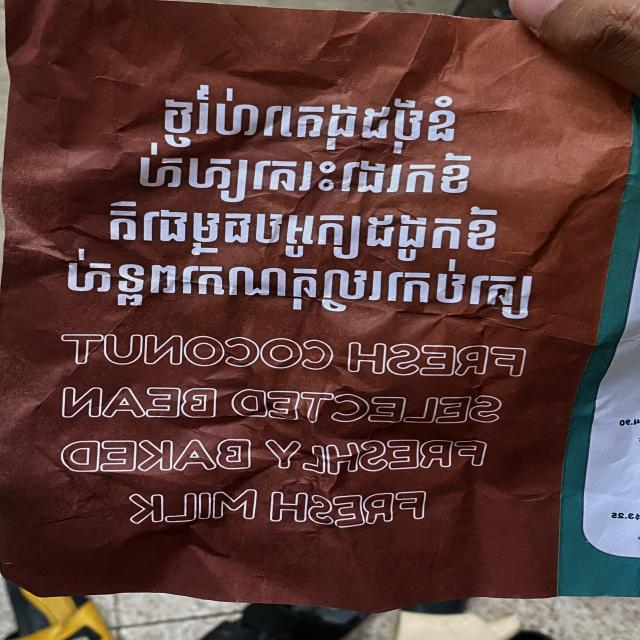Yolov11kh: (43, 242, 540, 332), (80, 198, 510, 263), (127, 81, 470, 156), (108, 138, 487, 205)
